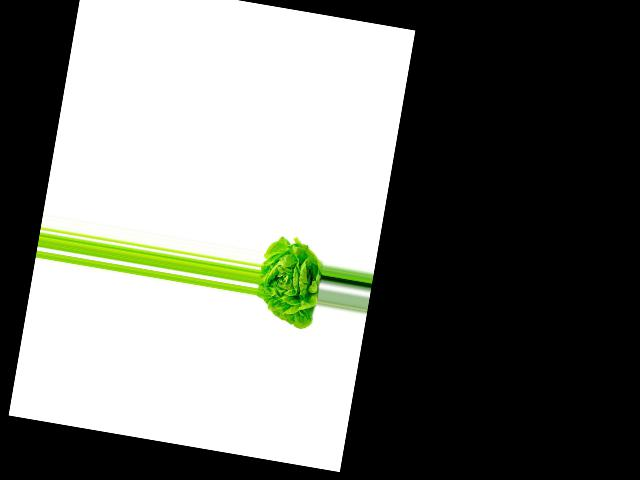lettuce: (251, 236, 327, 332)
